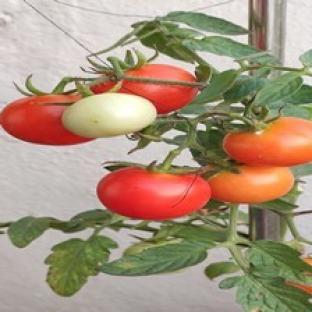Tomato: (98, 168, 210, 220), (223, 117, 311, 167), (2, 95, 90, 144), (63, 94, 157, 137), (208, 166, 293, 203), (119, 80, 197, 114), (286, 282, 311, 293)
